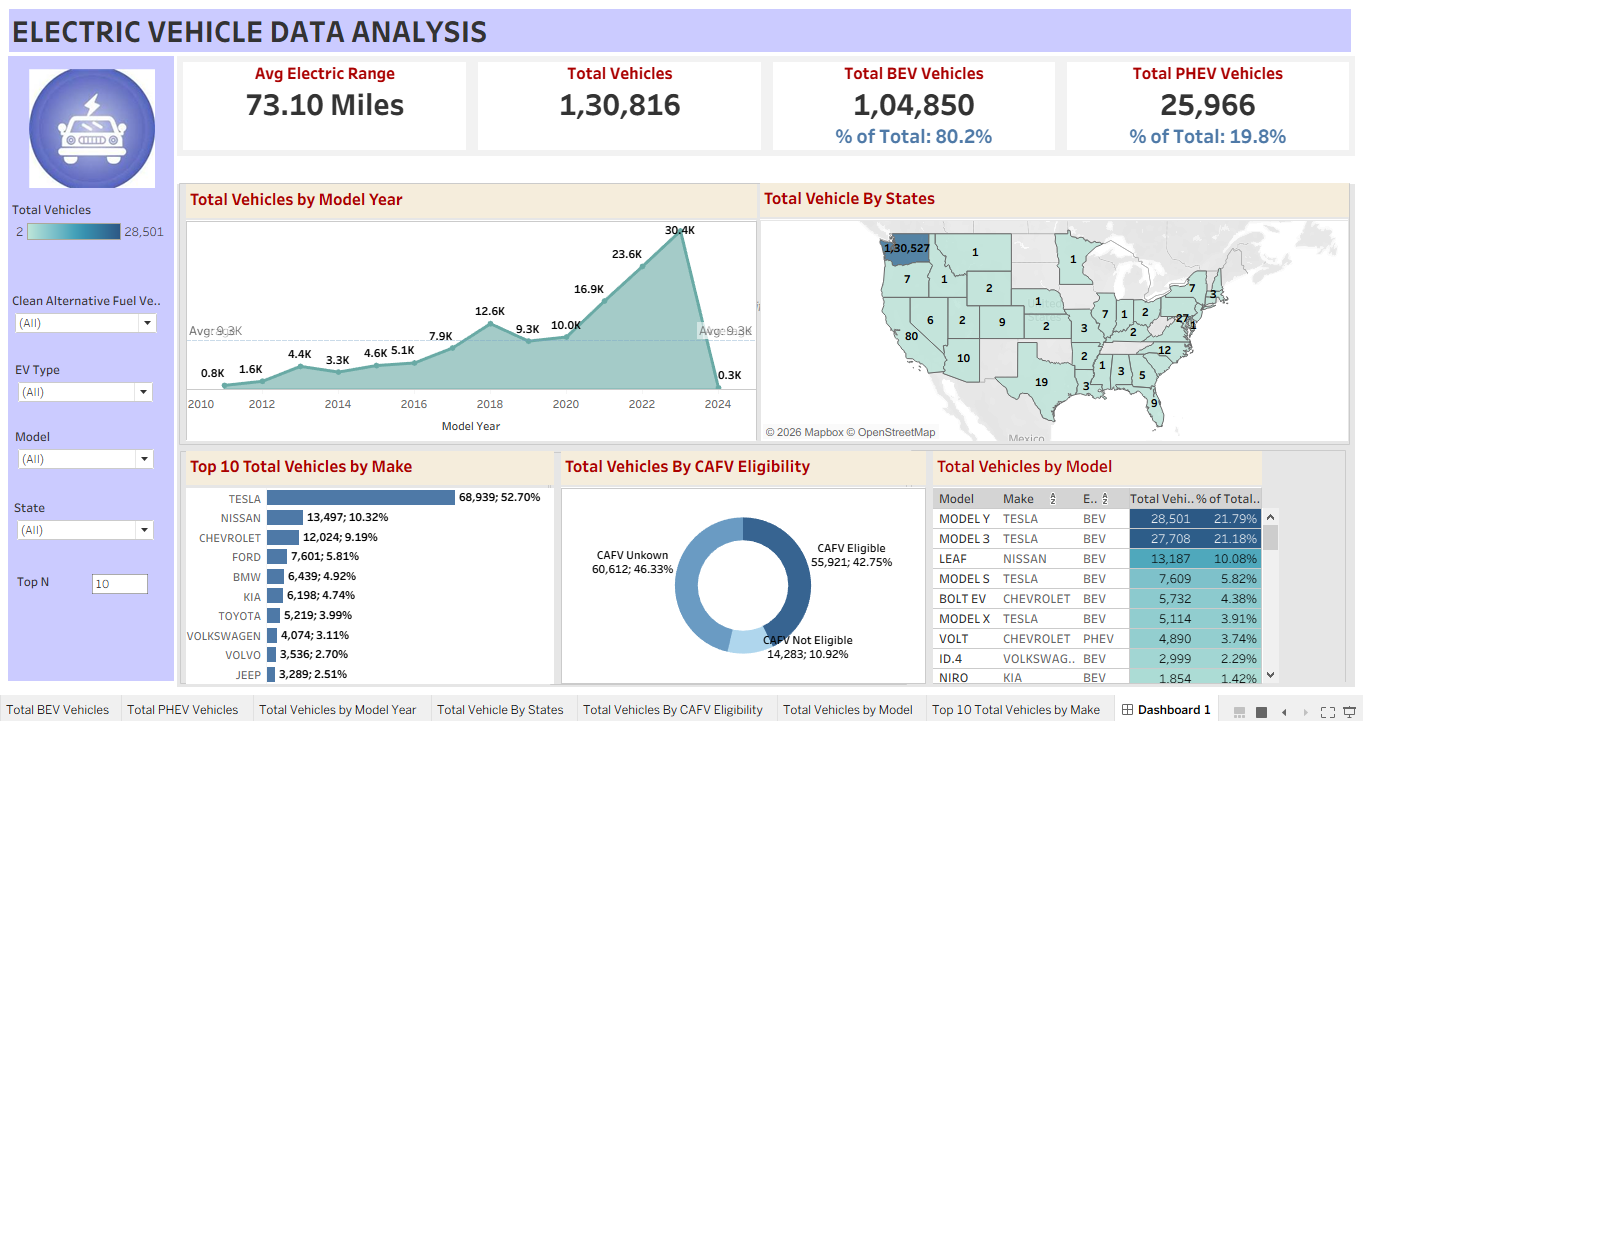

The page's visual inventory and layout, read from the dashboard file:
{"tool":"tableau","page":{"name":"Dashboard 1","canvas":[1000,1000],"units":"permille","ordinal":0},"visuals":[{"type":"title","box":[6.9,14.5,986.1,72.4]},{"type":"worksheet","title":"Avg Electric Range","mark":"Automatic","box":[132.5,87,215.6,181.2]},{"type":"worksheet","title":"Total Vehicles","mark":"Automatic","box":[348.1,87,215.6,181.2]},{"type":"worksheet","title":"Total BEV Vehicles","mark":"Automatic","box":[563.6,87,214.7,181.2]},{"type":"worksheet","title":"Total PHEV Vehicles ","mark":"Automatic","box":[778.4,87,214.7,181.2]},{"type":"image","param":"C:/Users/HP/OneDrive/Desktop/download (1).jpeg","box":[17.3,103.3,103.9,170.3]},{"type":"worksheet","title":"Total Vehicle By States","mark":"Multipolygon","box":[558.4,266.3,431.2,371.4]},{"type":"worksheet","title":"Total Vehicles by Model Year","mark":"Area","rows":["Calculation_1066854444457985","Calculation_1066854444457985"],"cols":["Model Year"],"box":[134.2,268.1,426.8,373.2]},{"type":"blank","box":[132.4,269.9,860.7,715.6]},{"type":"legend","title":"Total Vehicles by Model","param":"[federated.1swmh8k09oviru11qrlp61ji8v16].[usr:Calculation_1066854444457985:qk]","box":[11.3,291.7,115.2,106.9]},{"type":"filter","title":"Total Vehicles by Model Year","param":"[federated.1swmh8k09oviru11qrlp61ji8v16].[none:Clean Alternative Fuel Vehicle (C","box":[11.3,422.1,108.2,92.4]},{"type":"filter","title":"Total Vehicles by Model Year","param":"[federated.1swmh8k09oviru11qrlp61ji8v16].[none:Electric Vehicle Type:nk]","box":[13,521.7,103,85.1]},{"type":"filter","title":"Total Vehicles by Model Year","param":"[federated.1swmh8k09oviru11qrlp61ji8v16].[none:Model:nk]","box":[13,617.8,103.9,94.2]},{"type":"worksheet","title":"Top 10 Total Vehicles by Make","mark":"Automatic","rows":["Make"],"cols":["Calculation_1066854444457985"],"box":[138.5,650.4,269.3,333.3]},{"type":"worksheet","title":"Total Vehicles By CAFV Eligibility","mark":"Pie","rows":["Calculation_0859322302406657","Calculation_0859322302406657"],"box":[413,650.4,267.5,333.3]},{"type":"worksheet","title":"Total Vehicles by Model","mark":"Square","rows":["Model","Make","Electric Vehicle Type"],"box":[684.9,650.4,300.4,333.3]},{"type":"filter","title":"Total Vehicles by Model Year","param":"[federated.1swmh8k09oviru11qrlp61ji8v16].[none:State:nk]","box":[12.1,719.2,104.8,90.6]},{"type":"parameter","param":"[Parameters].[Parameter 1]","box":[14.7,822.5,97.8,45.3]}]}

Visuals, with their boxes on the dashboard's canvas, which has no fixed pixel size, in thousandths of its width and height (x1, y1, x2, y2). These are canvas units, not pixel positions in the 1618x1252 screenshot, which may show the page scaled, cropped or inside an application window:
title: x1=7, y1=14, x2=993, y2=87
"Avg Electric Range" worksheet: x1=132, y1=87, x2=348, y2=268
"Total Vehicles" worksheet: x1=348, y1=87, x2=564, y2=268
"Total BEV Vehicles" worksheet: x1=564, y1=87, x2=778, y2=268
"Total PHEV Vehicles " worksheet: x1=778, y1=87, x2=993, y2=268
image: x1=17, y1=103, x2=121, y2=274
"Total Vehicle By States" worksheet (Multipolygon marks): x1=558, y1=266, x2=990, y2=638
"Total Vehicles by Model Year" worksheet (Area marks): x1=134, y1=268, x2=561, y2=641
blank: x1=132, y1=270, x2=993, y2=986
"Total Vehicles by Model" legend: x1=11, y1=292, x2=126, y2=399
"Total Vehicles by Model Year" filter: x1=11, y1=422, x2=120, y2=514
"Total Vehicles by Model Year" filter: x1=13, y1=522, x2=116, y2=607
"Total Vehicles by Model Year" filter: x1=13, y1=618, x2=117, y2=712
"Top 10 Total Vehicles by Make" worksheet: x1=138, y1=650, x2=408, y2=984
"Total Vehicles By CAFV Eligibility" worksheet (Pie marks): x1=413, y1=650, x2=680, y2=984
"Total Vehicles by Model" worksheet (Square marks): x1=685, y1=650, x2=985, y2=984
"Total Vehicles by Model Year" filter: x1=12, y1=719, x2=117, y2=810
parameter: x1=15, y1=822, x2=112, y2=868
